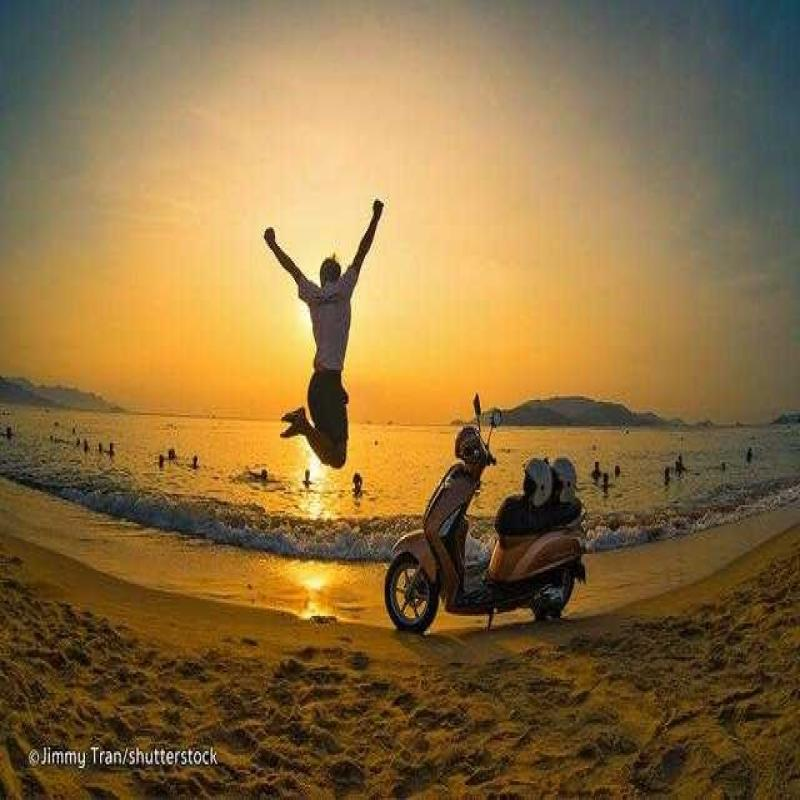bike: (381, 374, 605, 659)
